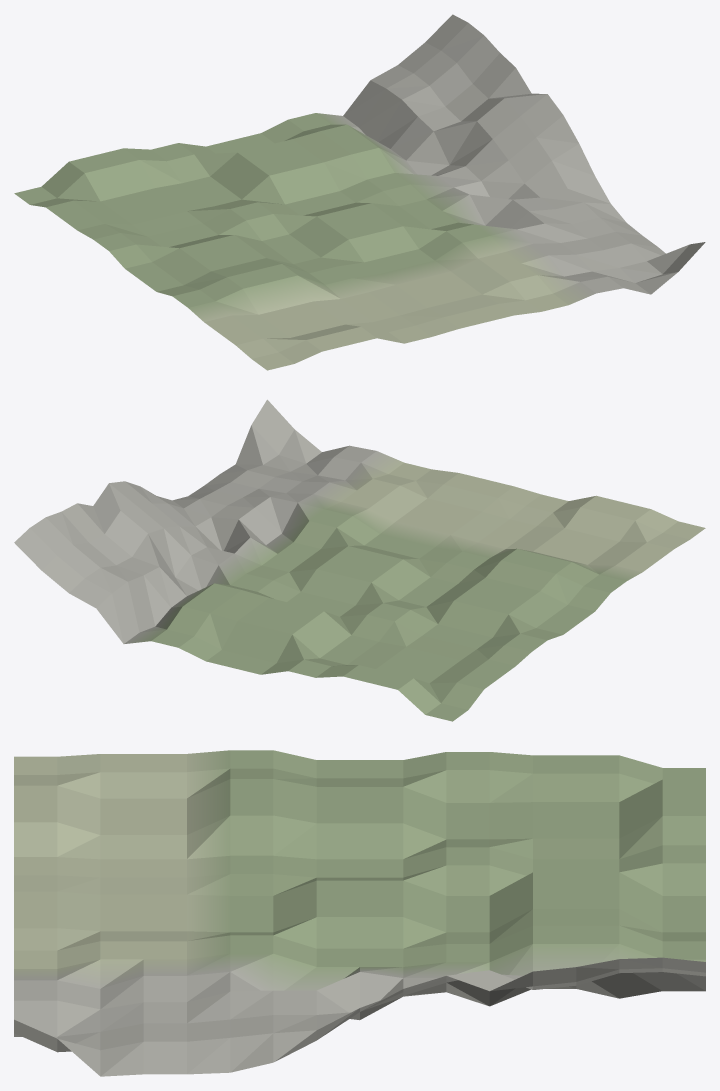
3 views of the same model, one above another, from view 1: azimuth 30°, elevation 25°; view 2: azimuth 150°, elevation 25°; view 3: azimuth 270°, elevation 25° (orthographic). The views are drawn at different scales.
Size of the model in its own units: 32 by 6.07 by 32.
